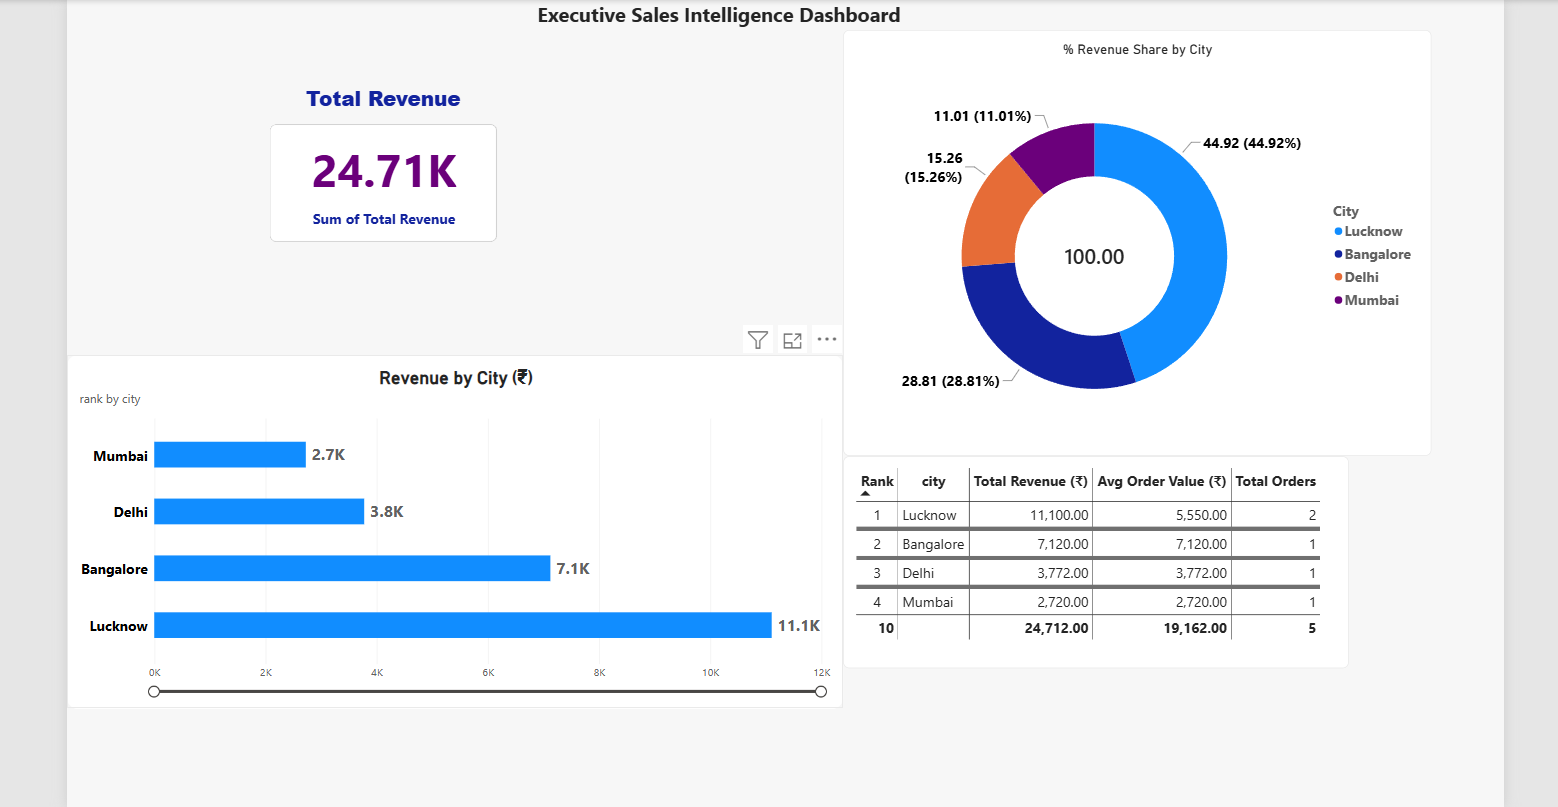

What the dashboard file says about the page in this screenshot:
{"tool":"powerbi","page":{"name":"Page 1","canvas":[1920,1080],"ordinal":0},"visuals":[{"type":"cardVisual","title":"Total Revenue","fields":{"Data":["Sum(gold_sales_clean.city_revenue)"]},"box":[270.8,112.5,304.2,212.5],"z":0},{"type":"clusteredBarChart","title":"Revenue by City (₹)","fields":{"Category":["gold_sales_clean.city"],"Y":["Sum(gold_sales_clean.city_revenue)"]},"box":[0,474.2,1037.1,472.6],"z":1000},{"type":"donutChart","title":"% Revenue Share by City","fields":{"Category":["gold_sales_clean.city"],"Y":["Sum(gold_sales_clean.pct_revenue_contribution)"]},"box":[1037.1,40.3,785.4,568.8],"z":2000},{"type":"tableEx","fields":{"Values":["Sum(gold_sales_clean.revenue_rank)","gold_sales_clean.city","Sum(gold_sales_clean.city_revenue)","Sum(gold_sales_clean.avg_ticket_size)","Sum(gold_sales_clean.total_orders)"]},"box":[1037.1,609.7,675,283.3],"z":3000},{"type":"textbox","box":[11.4,0,1718.2,38.6],"z":4000},{"type":"textbox","box":[11,113,260,285],"z":4001}]}

Visuals, with their boxes on the page's 1920x1080 design canvas (x1, y1, x2, y2). These are canvas units, not pixel positions in the 1558x807 screenshot, which may show the page scaled, cropped or inside an application window:
"Total Revenue" cardVisual: [271, 112, 575, 325]
"Revenue by City (₹)" clusteredBarChart: [0, 474, 1037, 947]
"% Revenue Share by City" donutChart: [1037, 40, 1822, 609]
tableEx - Sum(gold_sales_clean.revenue_rank) x gold_sales_clean.city: [1037, 610, 1712, 893]
textbox: [11, 0, 1730, 39]
textbox: [11, 113, 271, 398]
